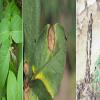Potato leaf late blight: (29, 18, 68, 99)
